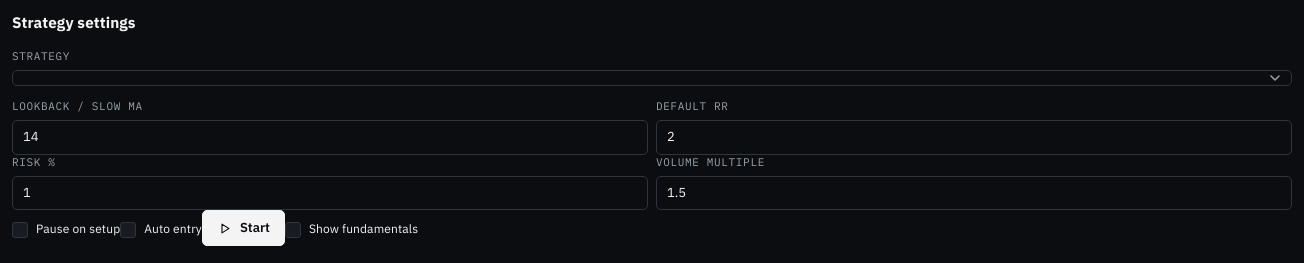
Test case: Milestone 4 Empirical Adversarial Challenge Suite › 1. Checkbox Interactions & State Machine Stress Testing › stress tests rapid toggling of checkboxes without desynchronization
Earlier steps of the test are not shown.
Later steps or results of the test are not shown.
Click the checkbox labelled "Auto entry": (161, 230) top-left (120, 221), bottom-right (202, 238)
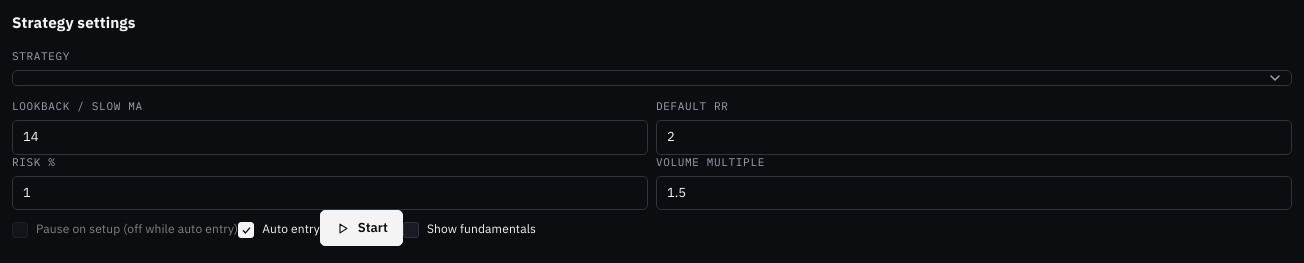
Expected: the checkbox labelled "Auto entry" is checked
Click the checkbox labelled "Auto entry": (279, 230) top-left (238, 221), bottom-right (320, 238)
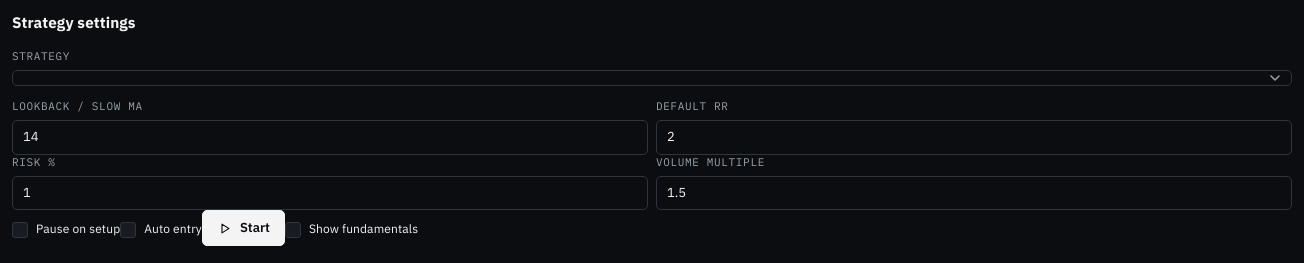
Expected: the checkbox labelled "Auto entry" is not checked
Click the checkbox labelled "Auto entry": (161, 230) top-left (120, 221), bottom-right (202, 238)
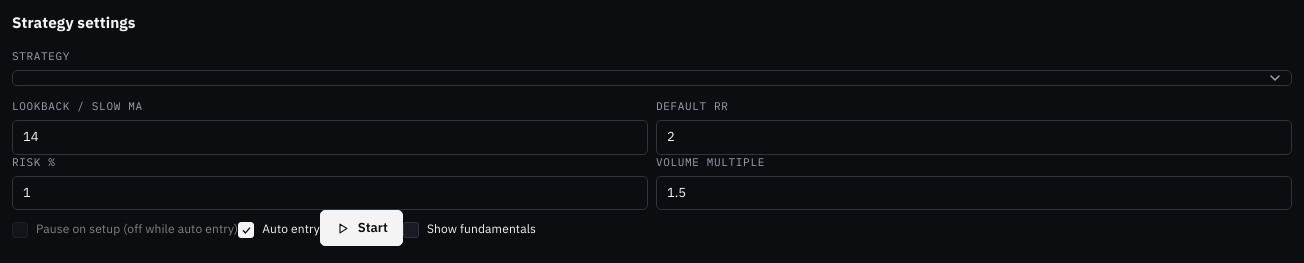
Expected: the checkbox labelled "Auto entry" is checked
Click the checkbox labelled "Auto entry": (279, 230) top-left (238, 221), bottom-right (320, 238)
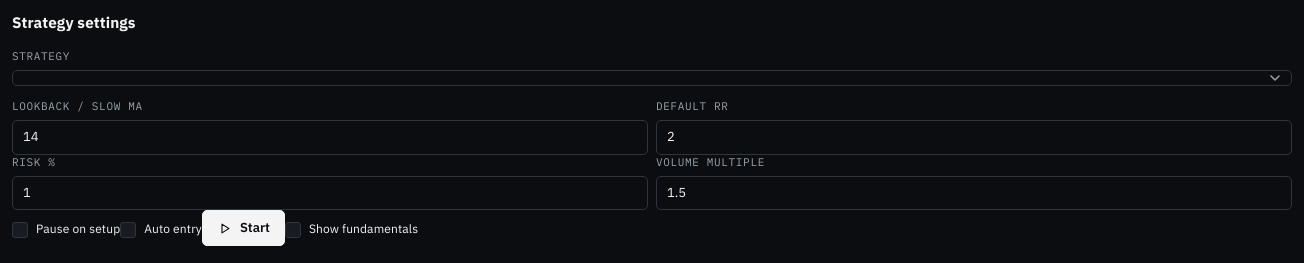
Expected: the checkbox labelled "Auto entry" is not checked
Click the checkbox labelled "Auto entry": (161, 230) top-left (120, 221), bottom-right (202, 238)
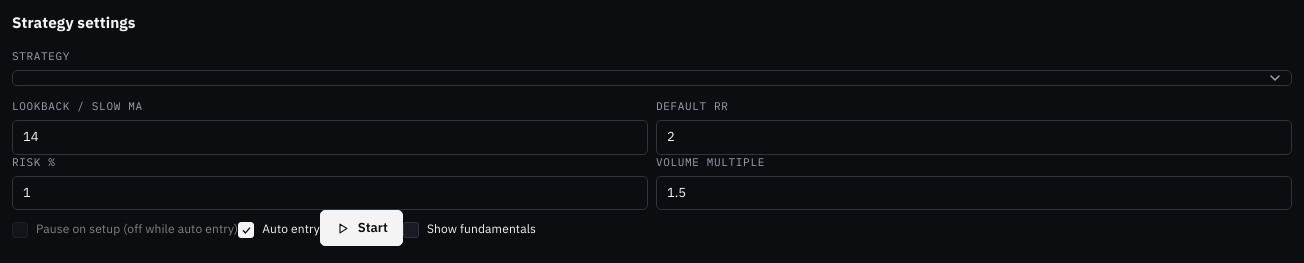
Expected: the checkbox labelled "Auto entry" is checked
Click the checkbox labelled "Auto entry": (279, 230) top-left (238, 221), bottom-right (320, 238)
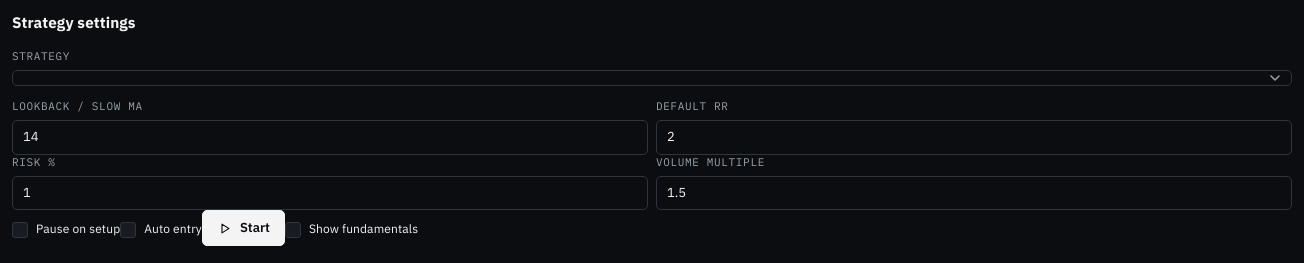
Expected: the checkbox labelled "Auto entry" is not checked, top-left (120, 221), bottom-right (202, 238)
